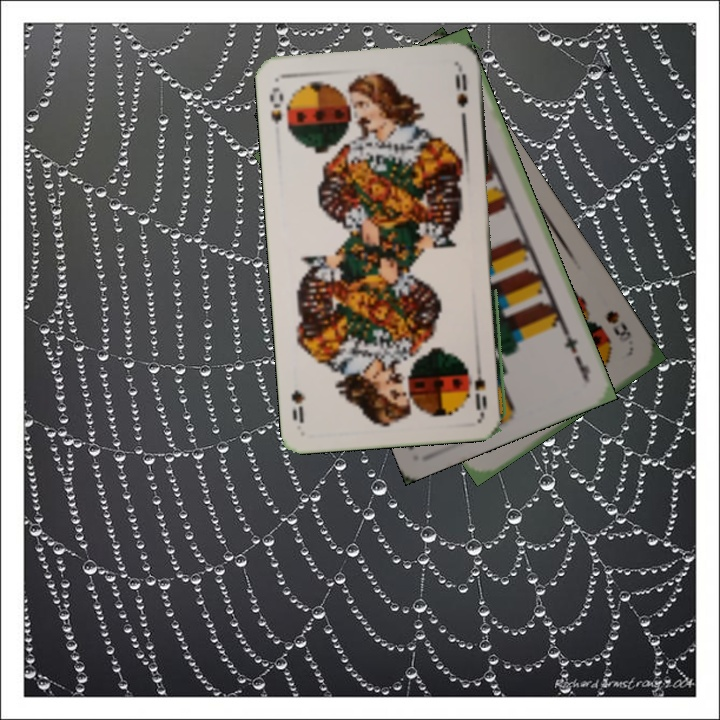E7: (559, 326, 593, 383)
S8: (601, 306, 634, 339)
SO: (470, 355, 490, 414), (265, 83, 286, 127)
